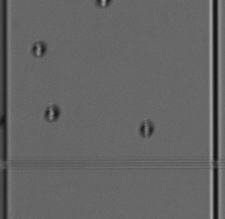Dead Cell: (138, 119, 155, 139)
Living Cell: (43, 104, 58, 122), (30, 41, 45, 57), (94, 1, 113, 8)
